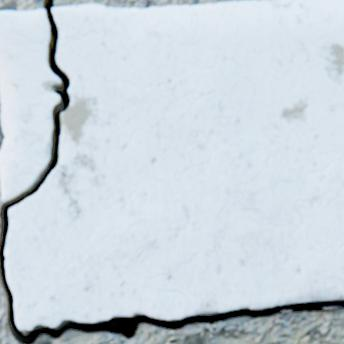broken_brick: (6, 0, 343, 330), (0, 10, 60, 203)
crack: (0, 0, 343, 343)
